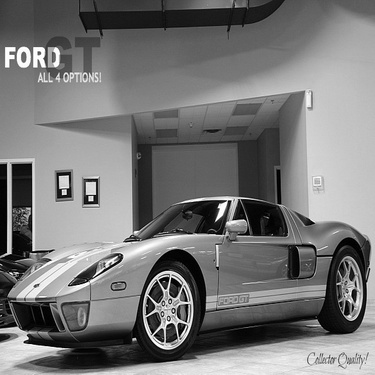car: (5, 192, 371, 364)
